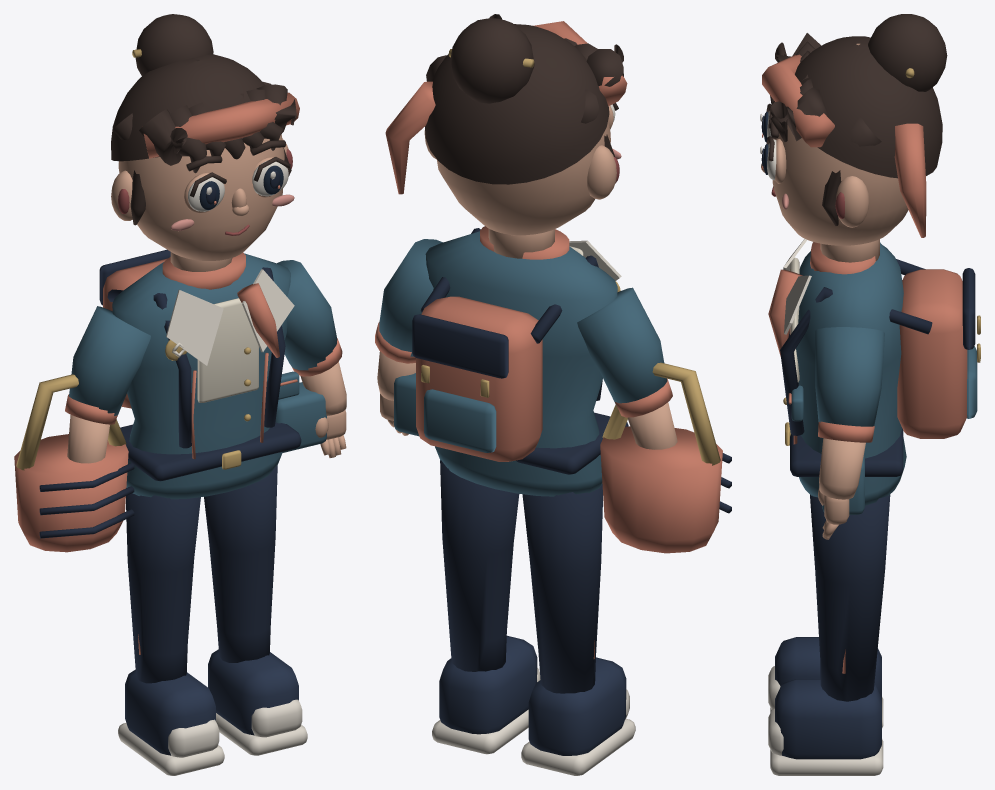
Rendered from npc_fishing_merchant_shore.glb.
3 renders of one model, left to right at view 1: azimuth 30°, elevation 25°; view 2: azimuth 150°, elevation 25°; view 3: azimuth 270°, elevation 25°, orthographic. The views are drawn at different scales.
Visible parts, largest first — view 1: figure.049; view 2: figure.049; view 3: figure.049.
Part boxes in pixels (<box>): figure.049: <box>14,14,346,775</box>; figure.049: <box>375,14,731,775</box>; figure.049: <box>760,14,980,775</box>.
Size of the model in its own units: 0.7622 by 1.58 by 0.4352.
